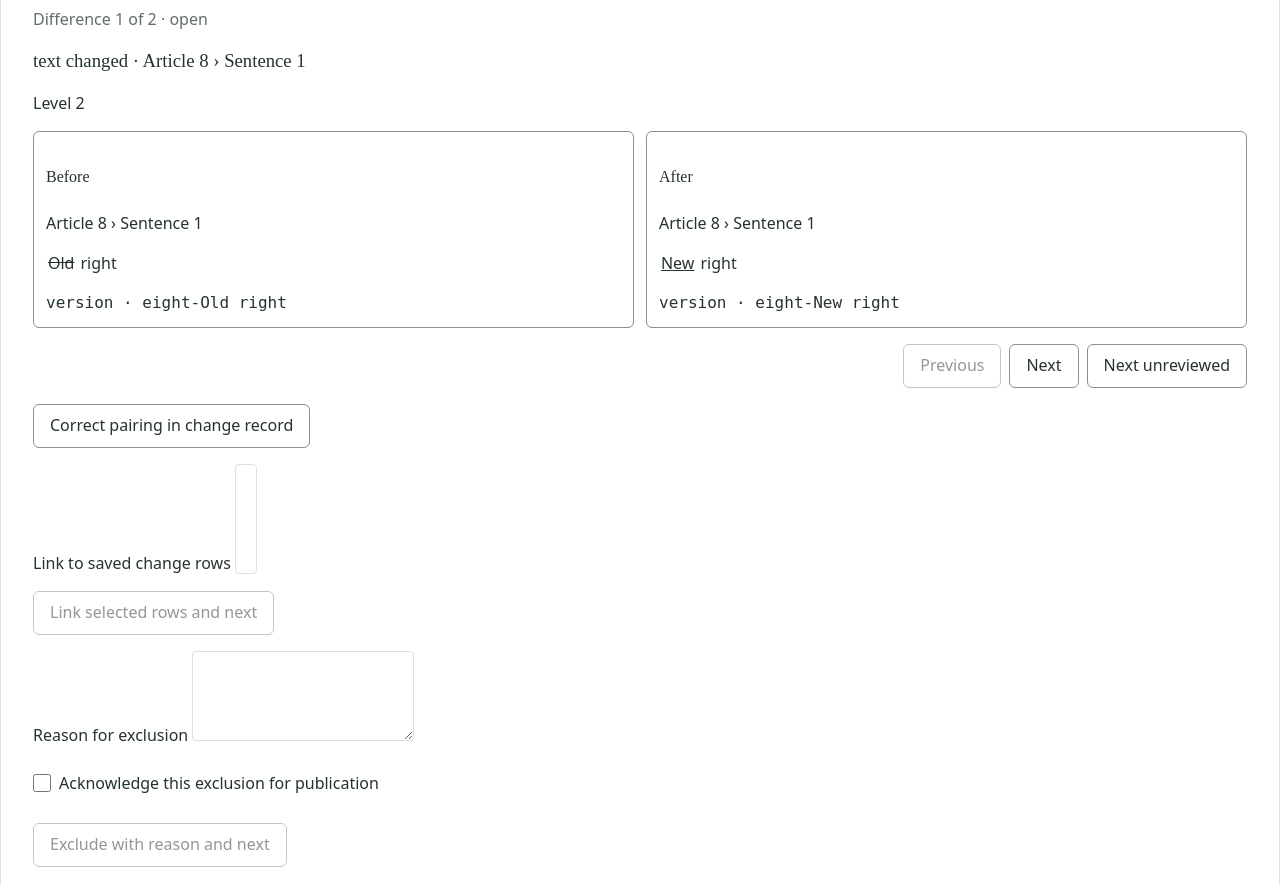
Test case: guided difference review › continues through open findings before returning to reviewer acknowledgements for a combined role
This screenshot has width=1280, height=884.
(page scrolled)
Type "Separate legal record" into the text box labelled "Reason for exclusion" at coordinates (303, 696), box [192,651,414,741]
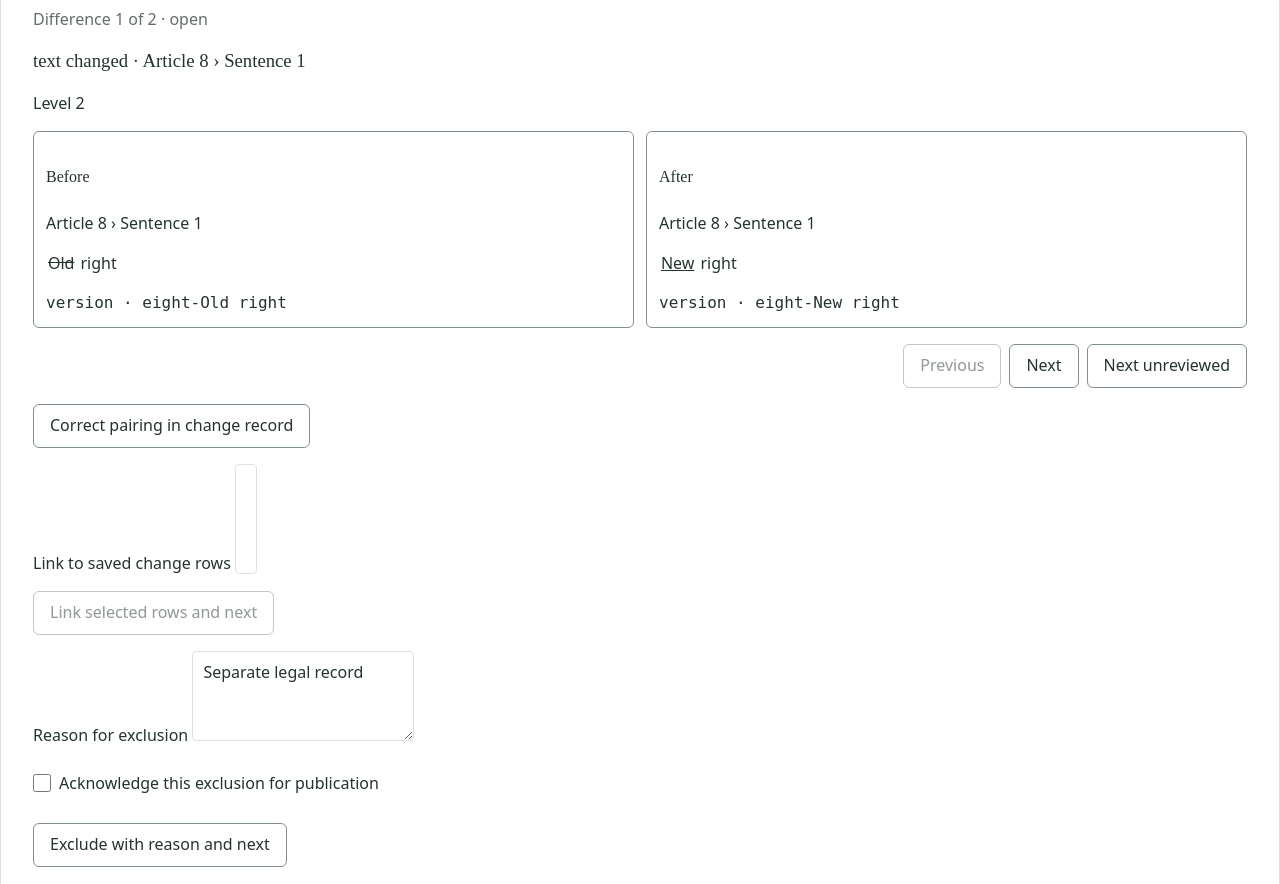
Click the button "Exclude with reason and next" at coordinates (160, 845), box [33,823,287,867]
(page scrolled)
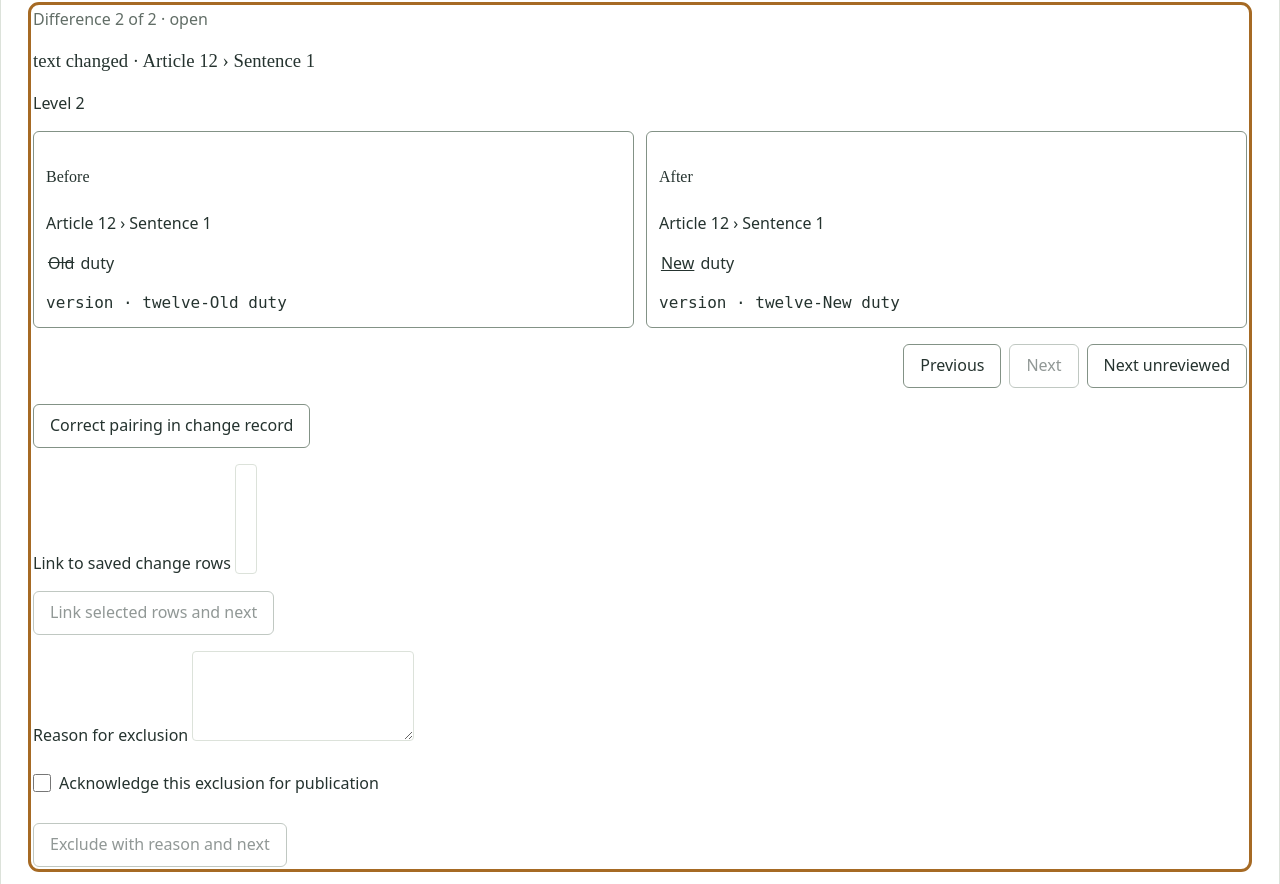
Result: the text "Difference 2 of 2" is shown at [33,8,208,30]
